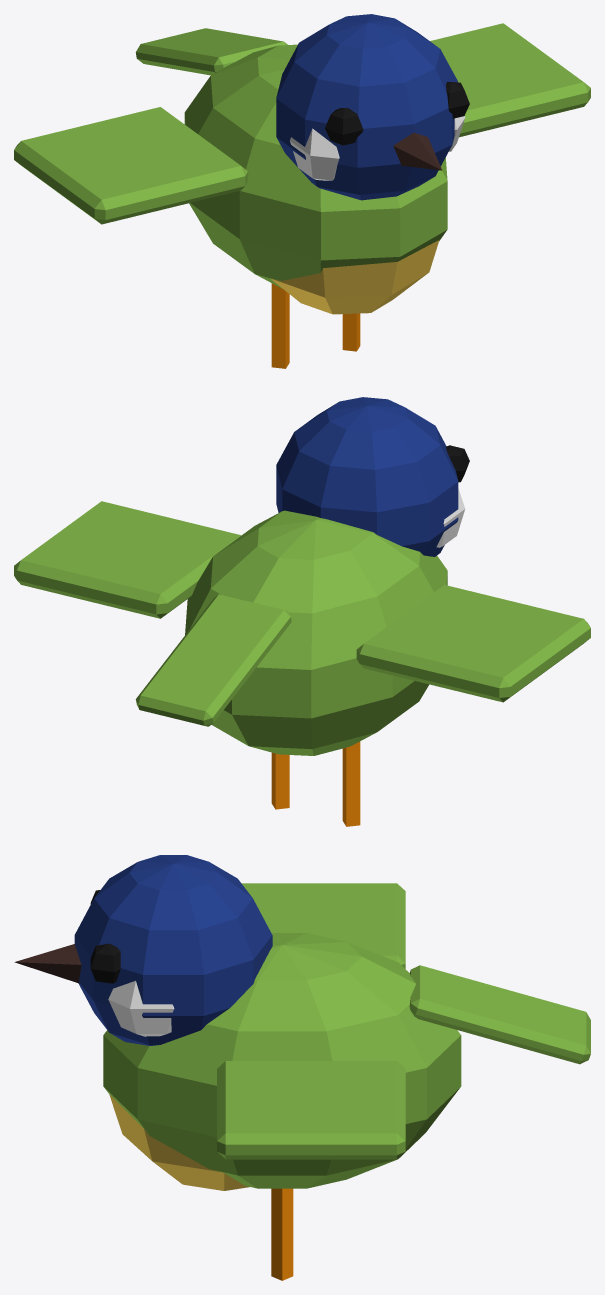
File: meise.glb
The picture shows the model from 3 angles, top to bottom: view 1: azimuth 30°, elevation 25°; view 2: azimuth 150°, elevation 25°; view 3: azimuth 270°, elevation 25°; orthographic projection. The views are drawn at different scales.
Visible parts, largest first — view 1: body-m, head-m, wing-0-m, wing-1-m, feet; view 2: body-m, head-m, wing-0-m, wing-1-m, feet; view 3: body-m, head-m, wing-1-m, wing-0-m, feet.
Part boxes in pixels (left/top/right/bottom): body-m: left=135, top=28, right=447, bottom=314; head-m: left=276, top=14, right=469, bottom=200; wing-0-m: left=14, top=107, right=248, bottom=224; wing-1-m: left=430, top=23, right=590, bottom=137; feet: left=271, top=283, right=360, bottom=368; body-m: left=135, top=510, right=447, bottom=755; head-m: left=276, top=397, right=469, bottom=556; wing-0-m: left=356, top=585, right=590, bottom=702; wing-1-m: left=14, top=501, right=240, bottom=618; feet: left=271, top=741, right=360, bottom=826; body-m: left=103, top=933, right=590, bottom=1190; head-m: left=14, top=855, right=272, bottom=1045; wing-1-m: left=217, top=1061, right=405, bottom=1159; wing-0-m: left=241, top=883, right=405, bottom=968; feet: left=271, top=1188, right=293, bottom=1280.
Bounding box in the file's own units: 0.84 × 0.6 × 0.7957.
